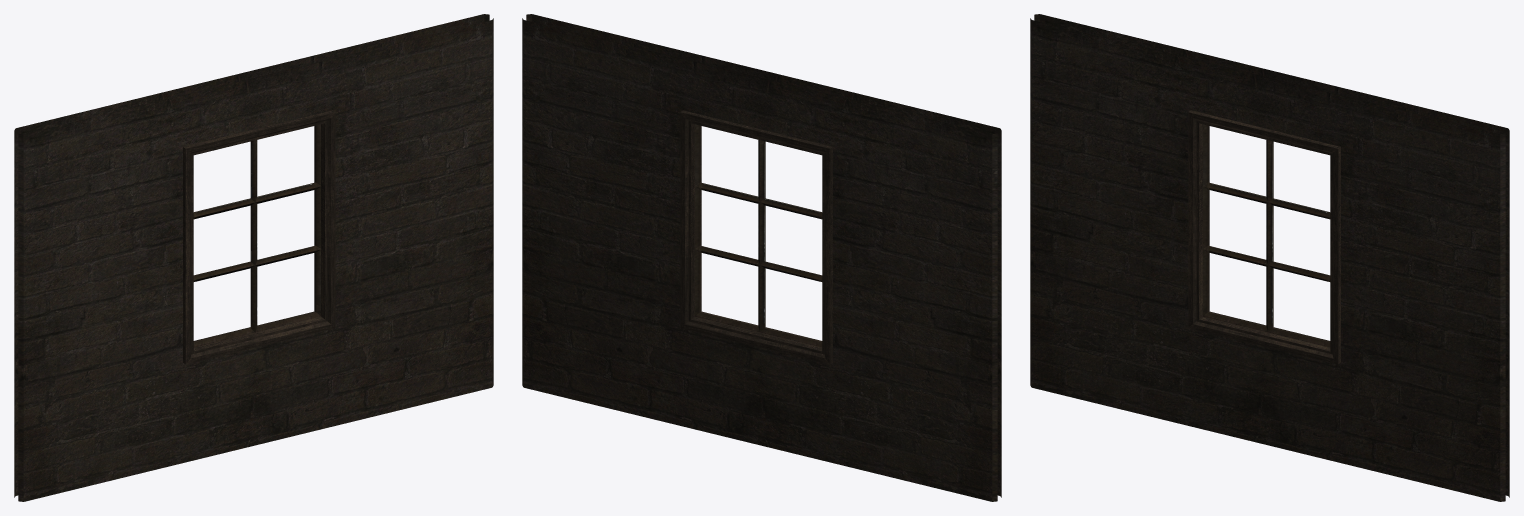
The model's file is window_1_single_no_glass.fbx.
3 views of the same model, side by side, from view 1: azimuth 30°, elevation 25°; view 2: azimuth 150°, elevation 25°; view 3: azimuth 330°, elevation 25° (orthographic).
Visible parts, largest first — view 1: window_1_single_no_glass; view 2: window_1_single_no_glass; view 3: window_1_single_no_glass.
Boxes of the visible parts, bbox=[...] form: window_1_single_no_glass: bbox=[14, 14, 493, 501]; window_1_single_no_glass: bbox=[522, 14, 1001, 501]; window_1_single_no_glass: bbox=[1030, 14, 1509, 501].
Size of the model in its own units: 4.06 by 0.2 by 3.
